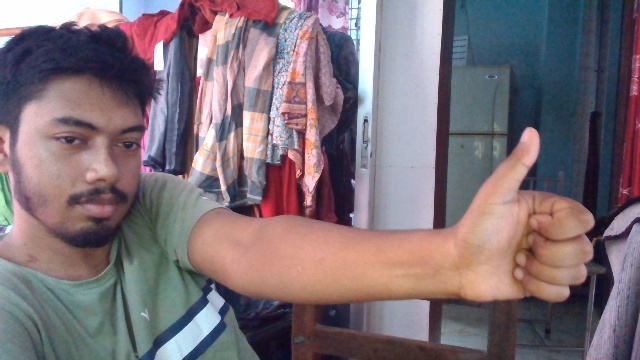yes: (485, 122, 597, 309)
